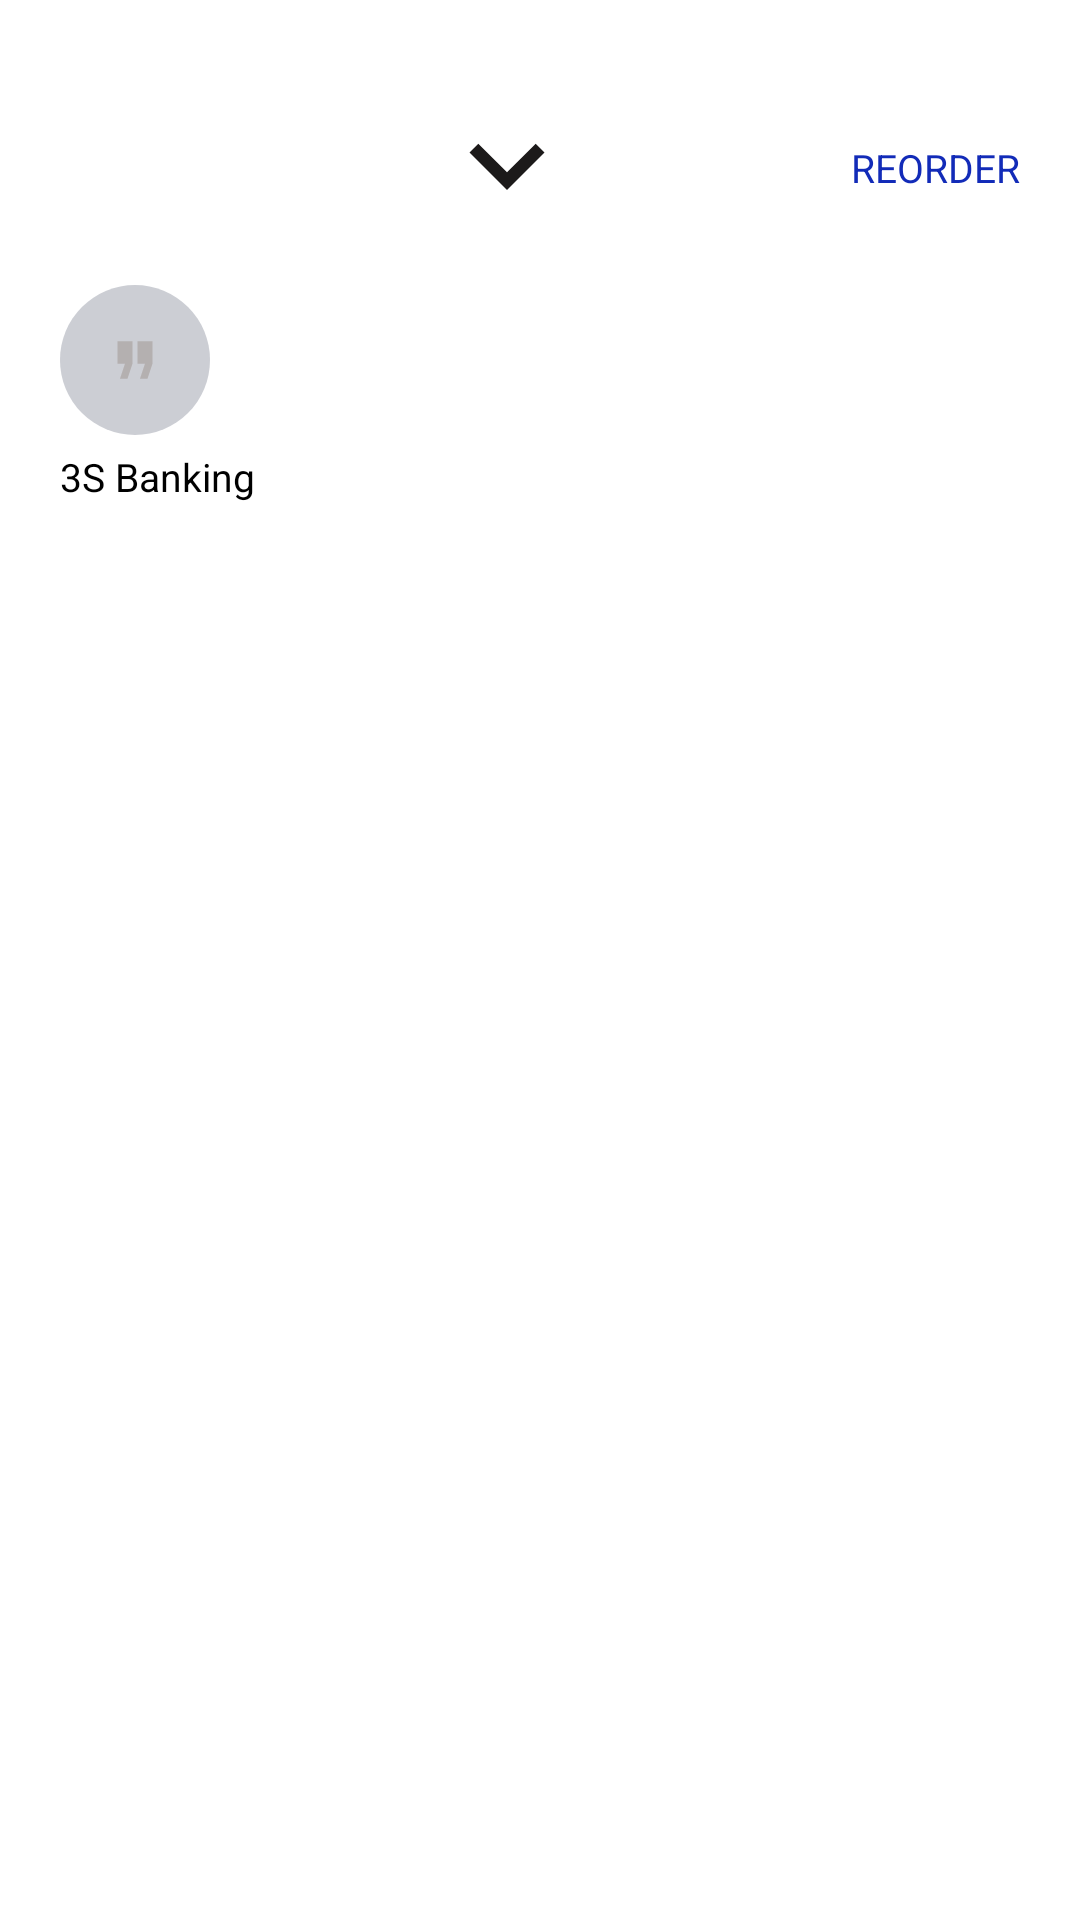

Screen size 1080px×1920px. Icon name, then its box in pixels as bbox(x1, y1, x2, y2):
keyboard arrow down: bbox(469, 144, 545, 190)
